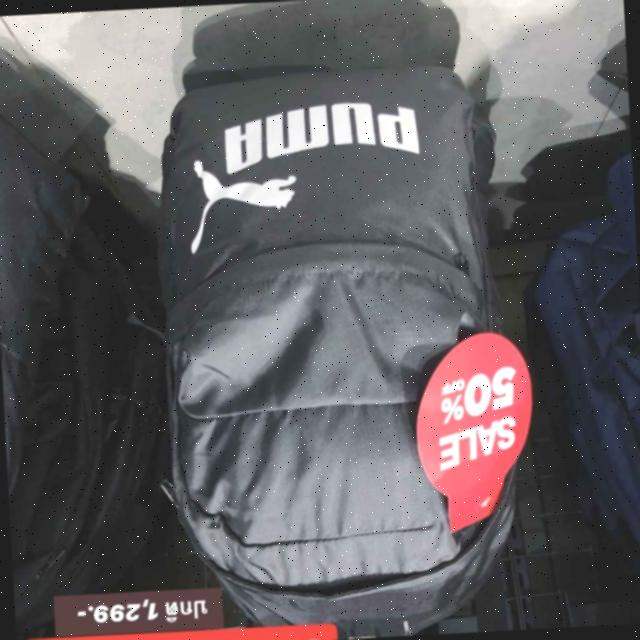Handbag: (132, 60, 543, 640)
